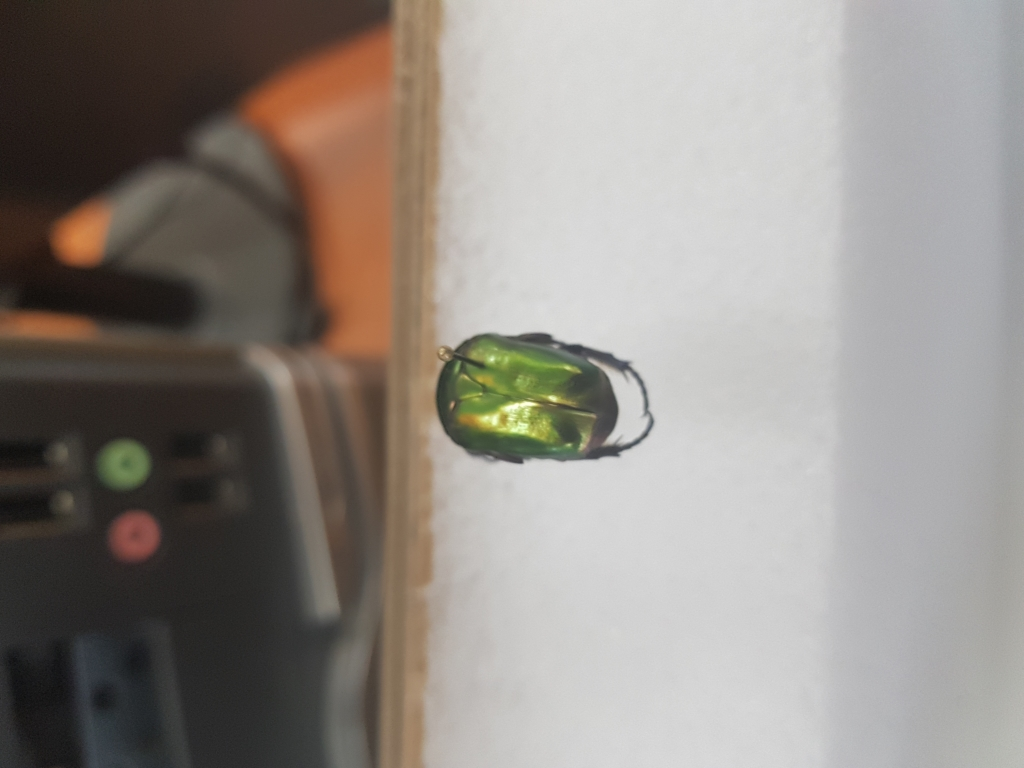Protaetia_cuprea_ignicollis: (431, 321, 658, 474)
